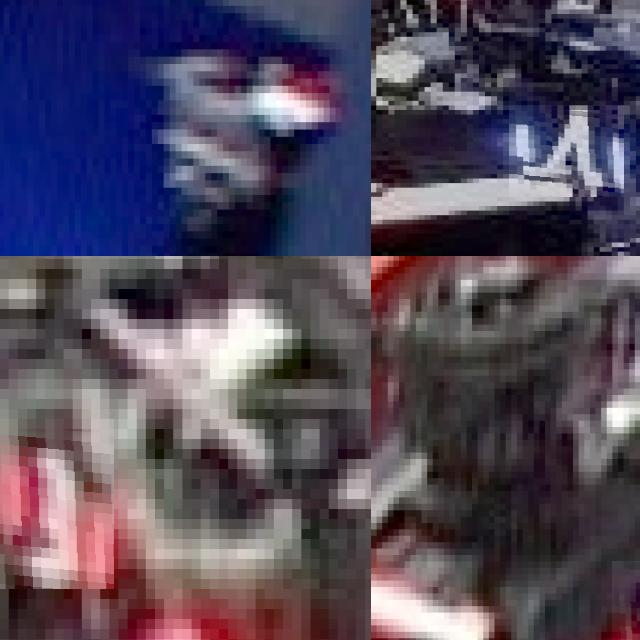B4: (509, 105, 624, 197)
R3: (0, 419, 113, 589)
